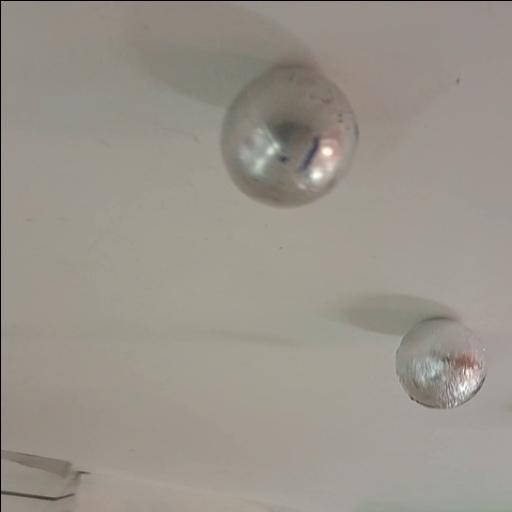alive: (213, 61, 361, 211), (393, 316, 489, 410)
